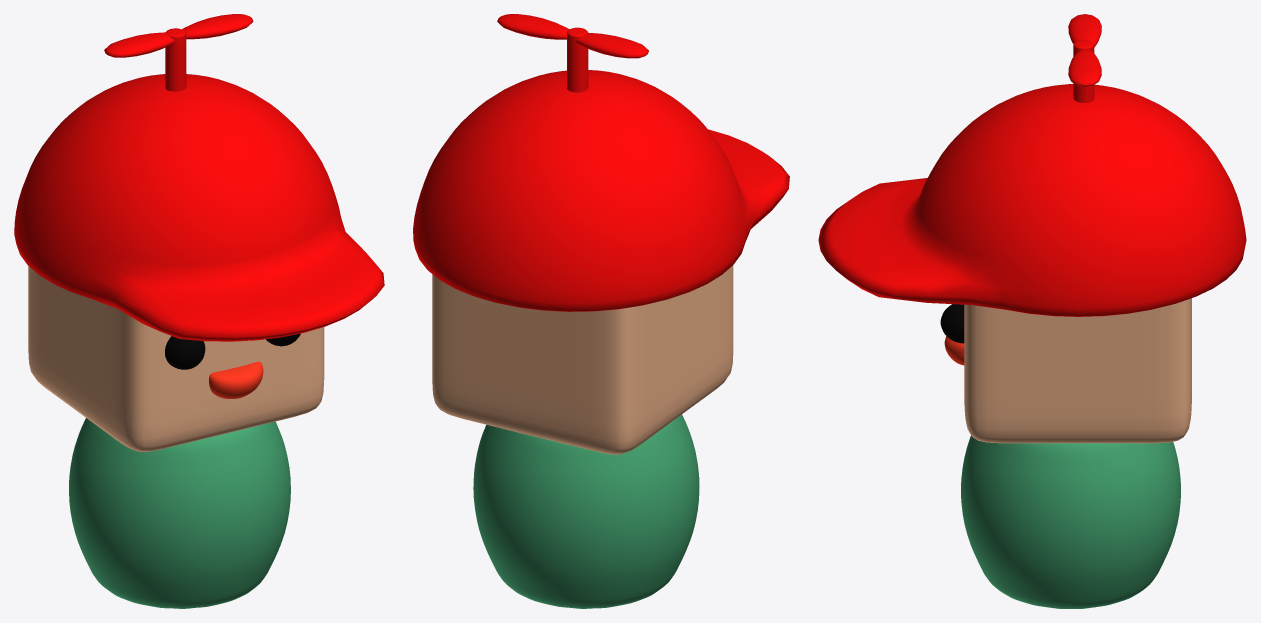
File: kid.fbx
3 renders of one model, left to right at view 1: azimuth 30°, elevation 25°; view 2: azimuth 150°, elevation 25°; view 3: azimuth 270°, elevation 25°, orthographic. The views are drawn at different scales.
Parts seen in each view (by area): view 1: pCube3; view 2: pCube3; view 3: pCube3.
Part boxes in pixels (bbox=[...]): pCube3: bbox=[14, 14, 384, 608]; pCube3: bbox=[413, 14, 789, 608]; pCube3: bbox=[818, 14, 1246, 608].
Size of the model in its own units: 1.6 by 2.95 by 2.12.
1 material, 1 textured.
